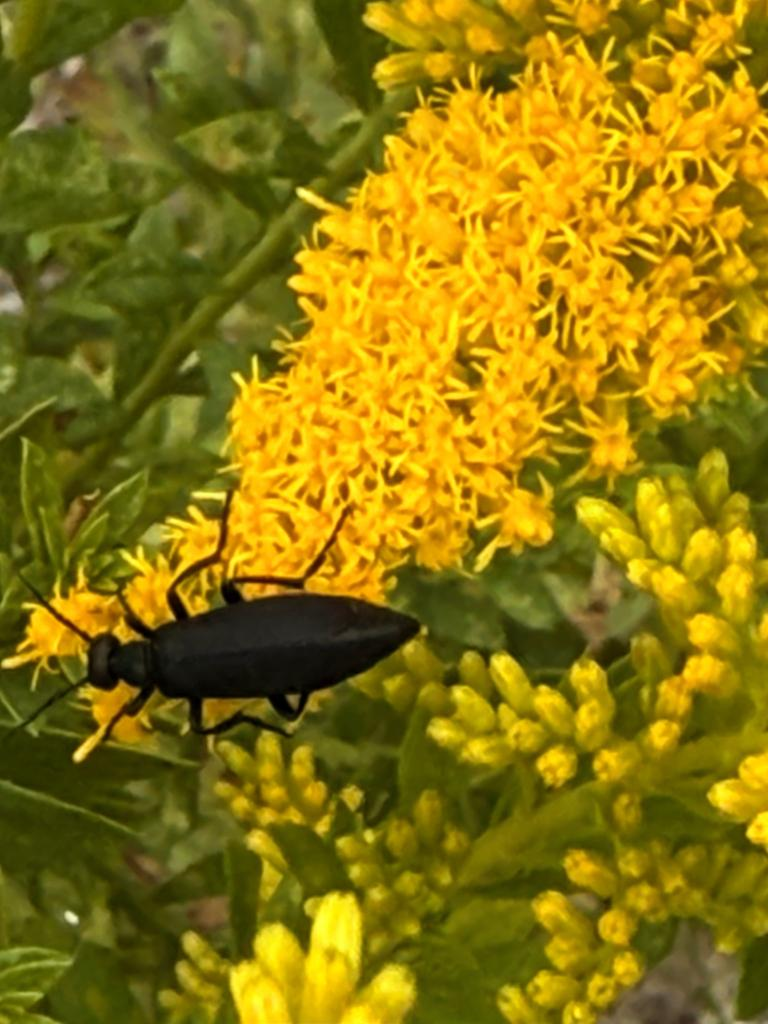blister_beetle: (0, 462, 465, 803)
